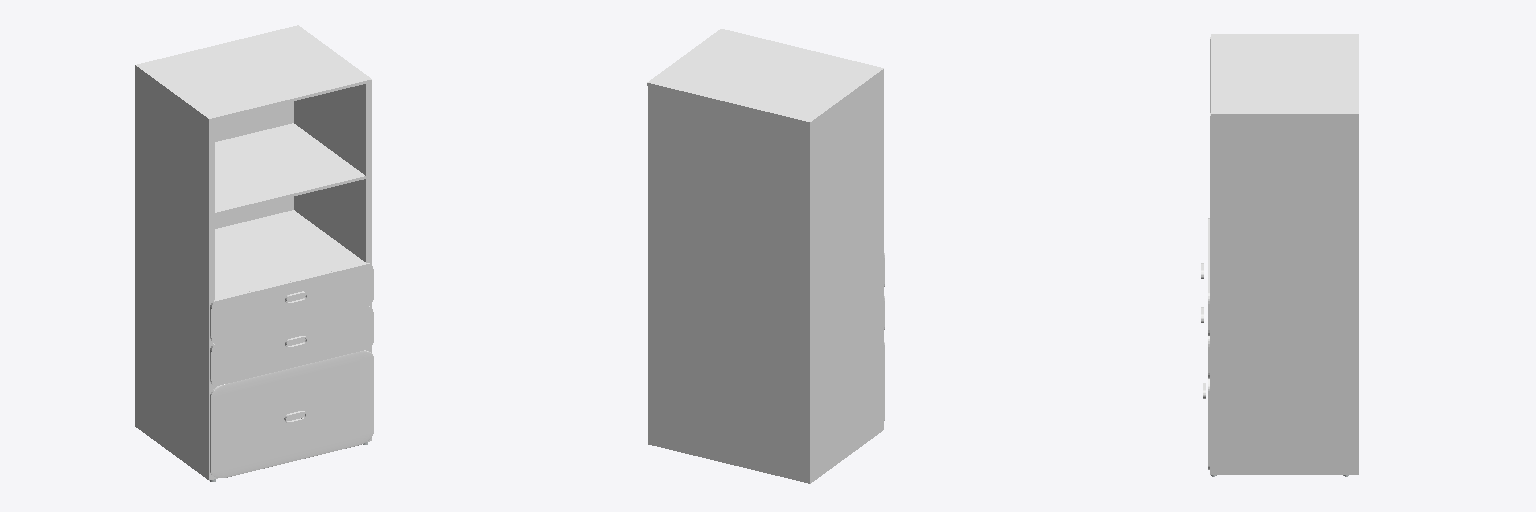
Rendered from StorageFurniture_StuvaFritidsBookcaseWhite.obj.
3 renders of one model, left to right at view 1: azimuth 30°, elevation 25°; view 2: azimuth 150°, elevation 25°; view 3: azimuth 270°, elevation 25°, orthographic.
Parts seen in each view (by area): view 1: obj_0; view 2: obj_0; view 3: obj_0.
Part boxes in pixels (x1,y1,x2,y2): obj_0: (135, 25, 373, 481); obj_0: (647, 29, 884, 483); obj_0: (1201, 34, 1358, 476).
Size of the model in its own units: 60 by 128 by 50.